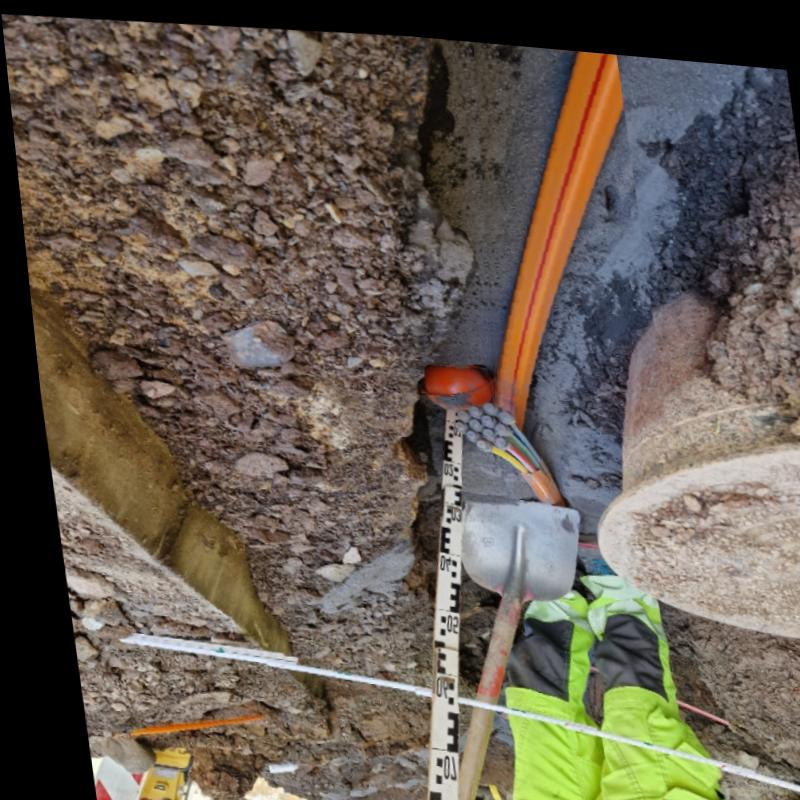Kugelmarker: (417, 357, 484, 402)
Orang-Speednetrohrchen: (488, 40, 622, 421), (446, 394, 553, 495)
